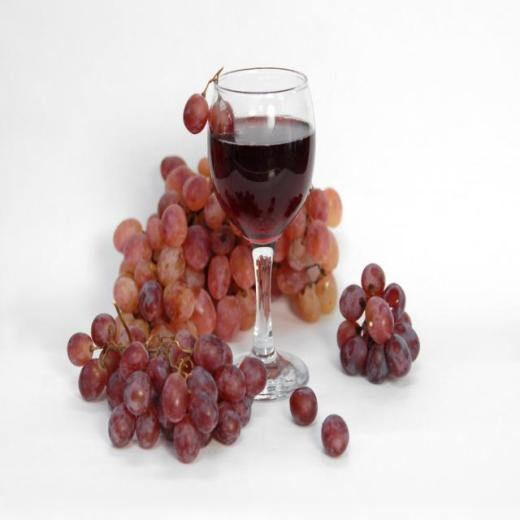Orange: (66, 151, 343, 462), (338, 262, 422, 386), (321, 414, 349, 459), (288, 386, 318, 426), (183, 92, 209, 134), (208, 98, 234, 136)
